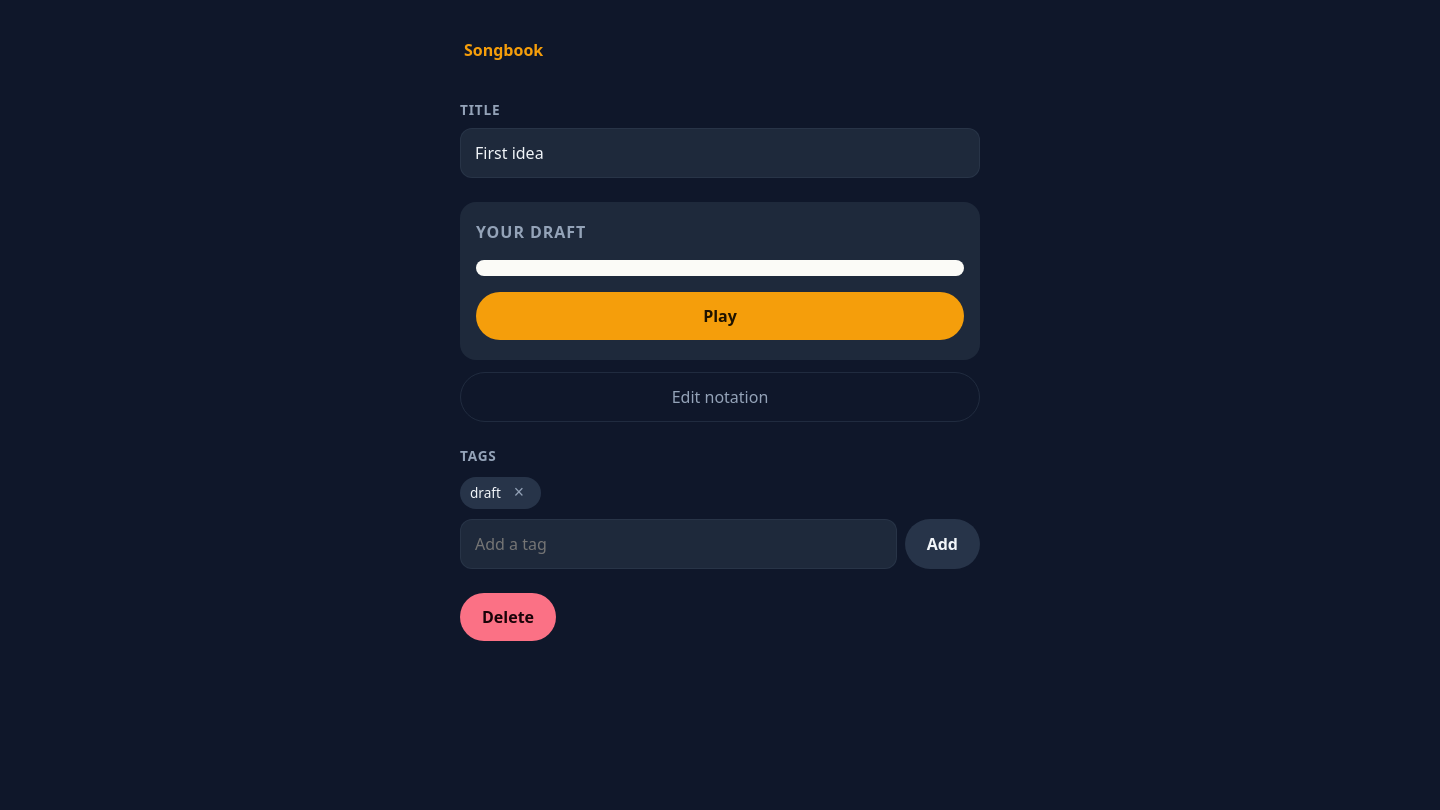
Scenario: EntryDetailScreen › dismisses the delete dialog on Escape without deleting
Click the button "Delete" at coordinates (508, 617), box [460,593,556,641]
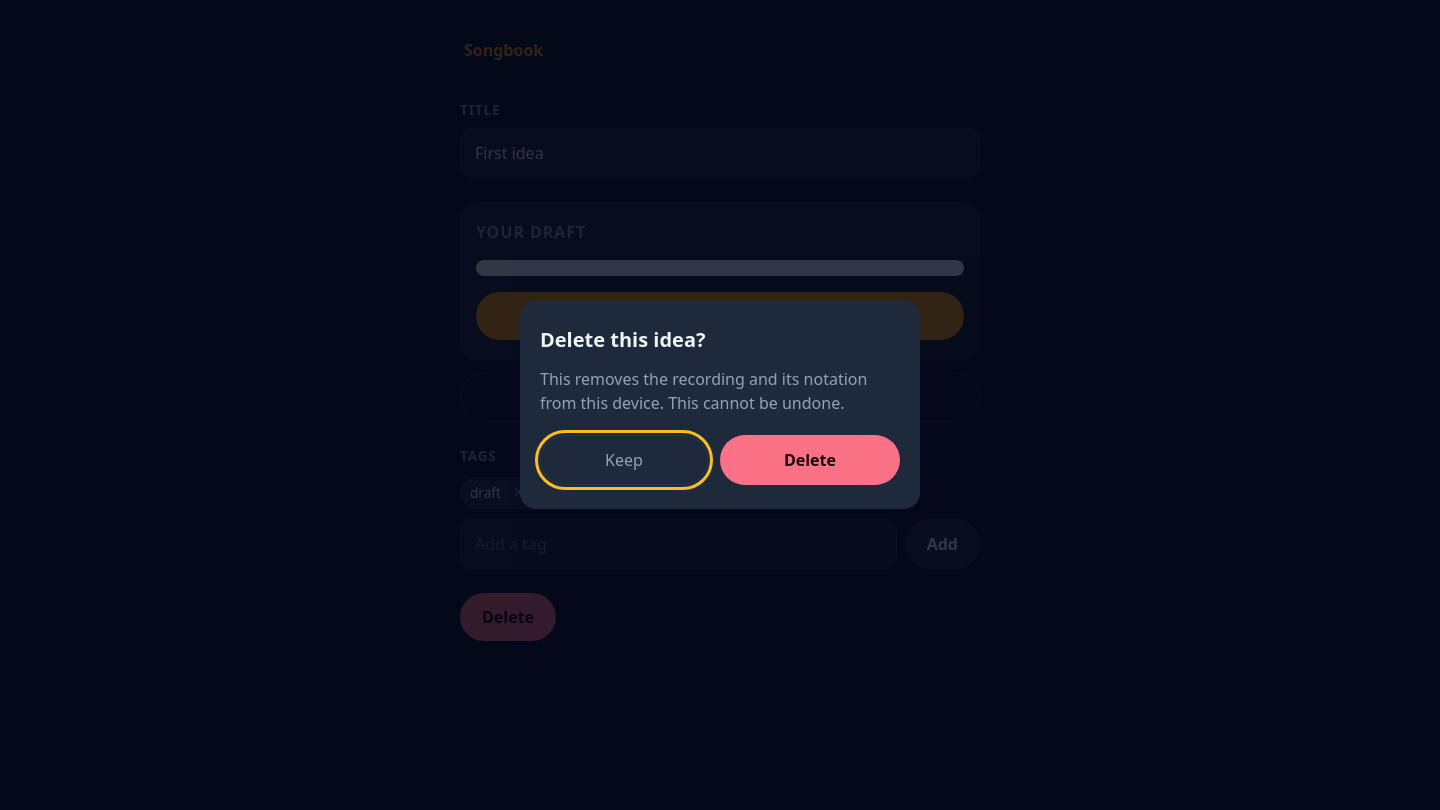
Now the dialog is shown, box [520,301,920,509]
Press Escape
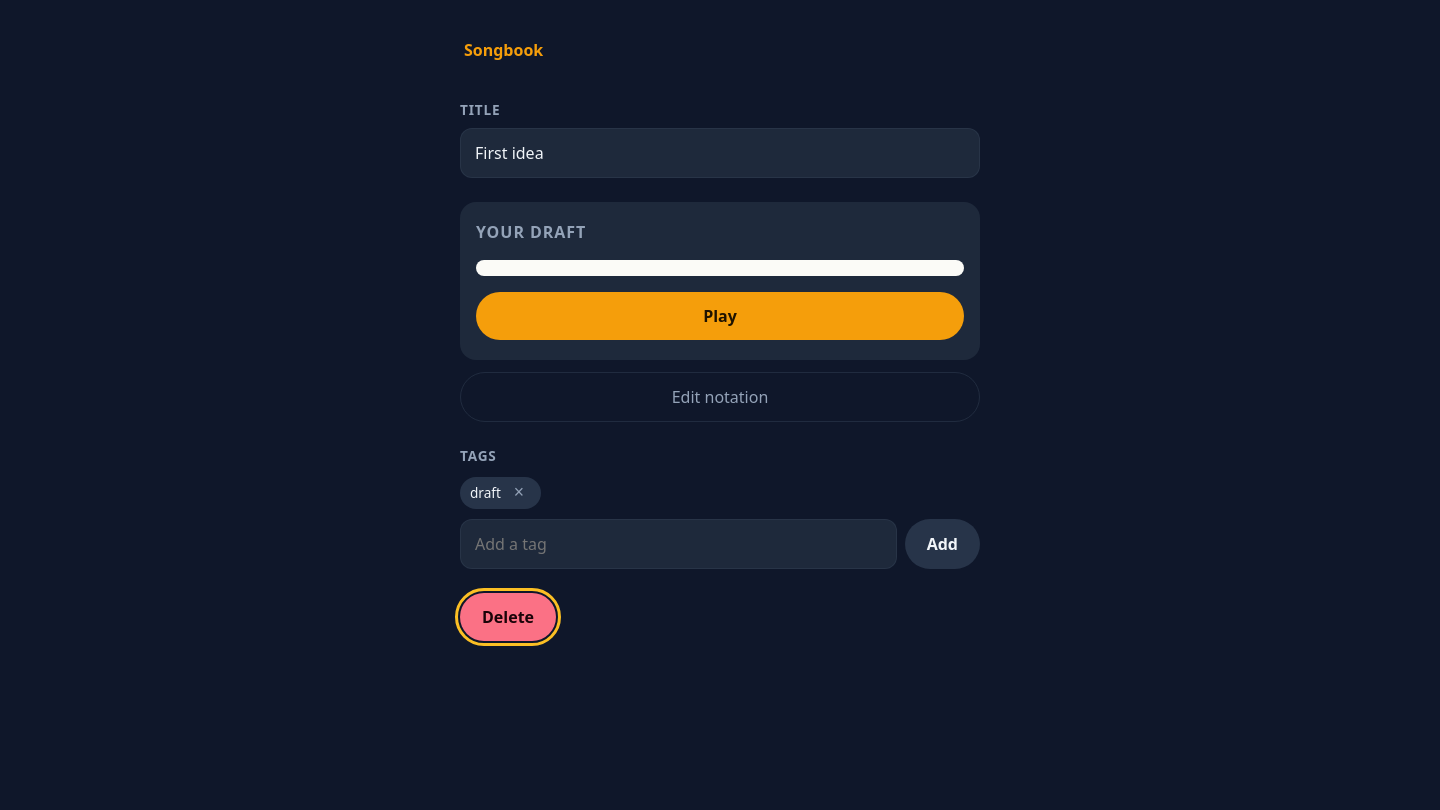
Now the dialog is gone
